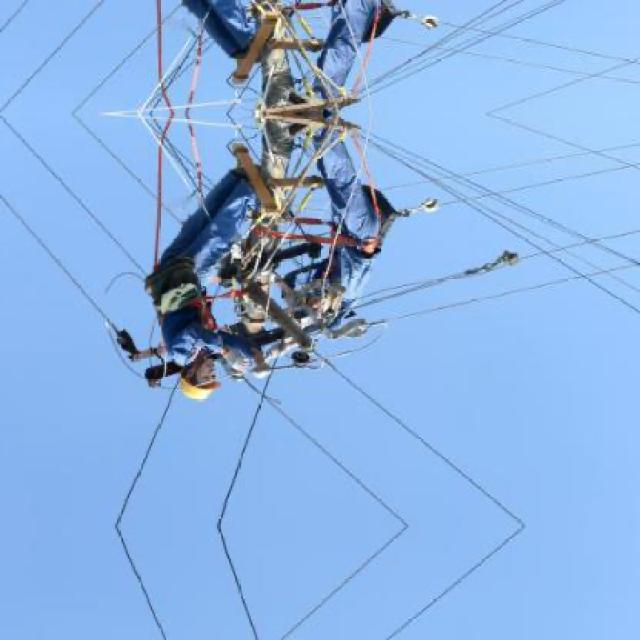con casco: (139, 320, 272, 437)
